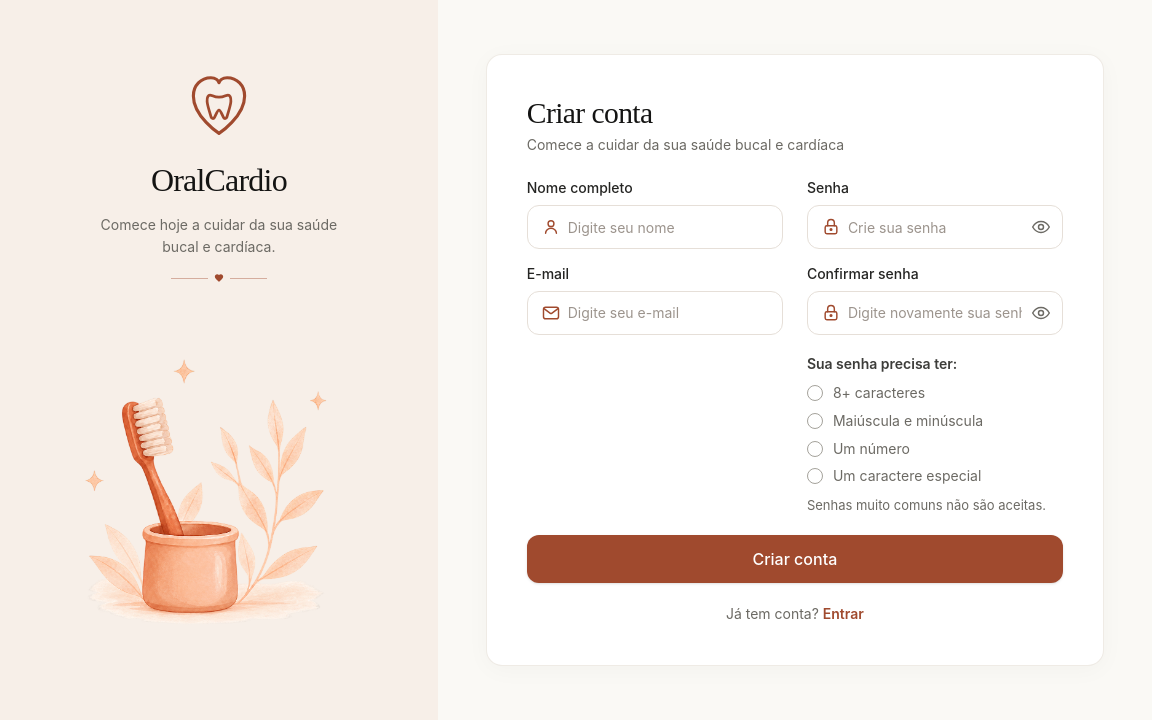
SignUpPage › shows validation feedback beside each invalid field
This screenshot has width=1152, height=720.
Step 1. Type "invalido" into the field labelled "E-mail" → (655, 313), box top-left (527, 291), bottom-right (783, 335)
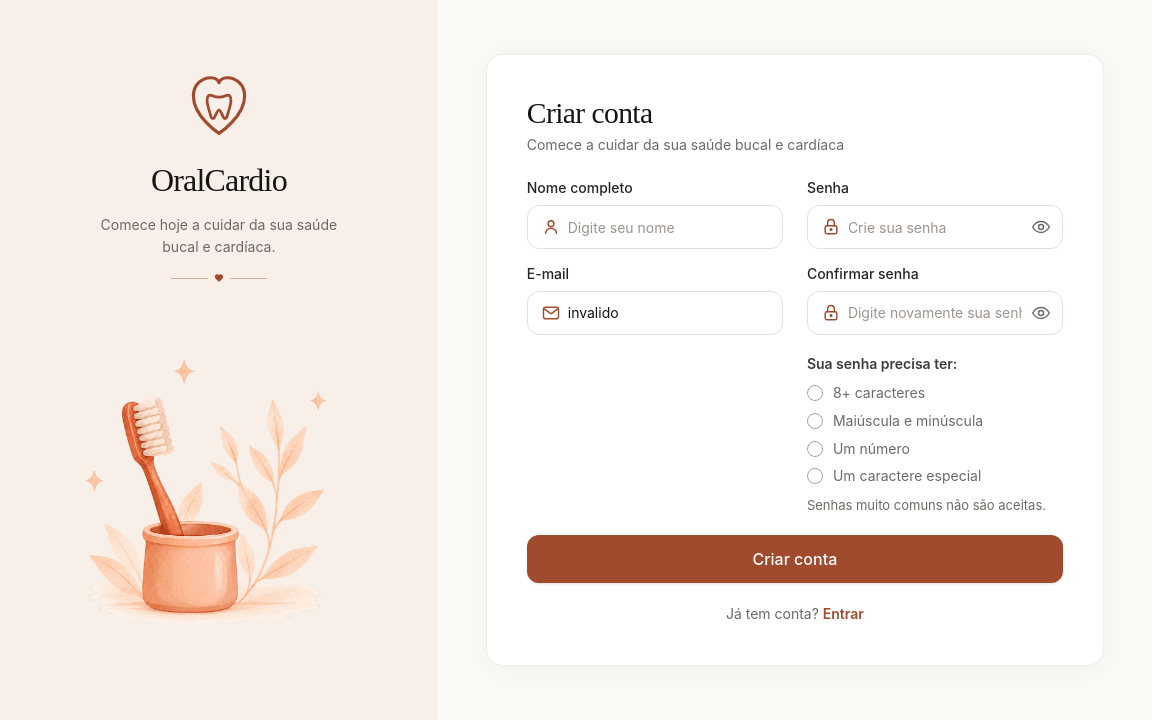
Step 2. Type "12345" into the password field labelled "Senha" → (935, 227), box top-left (807, 205), bottom-right (1063, 249)
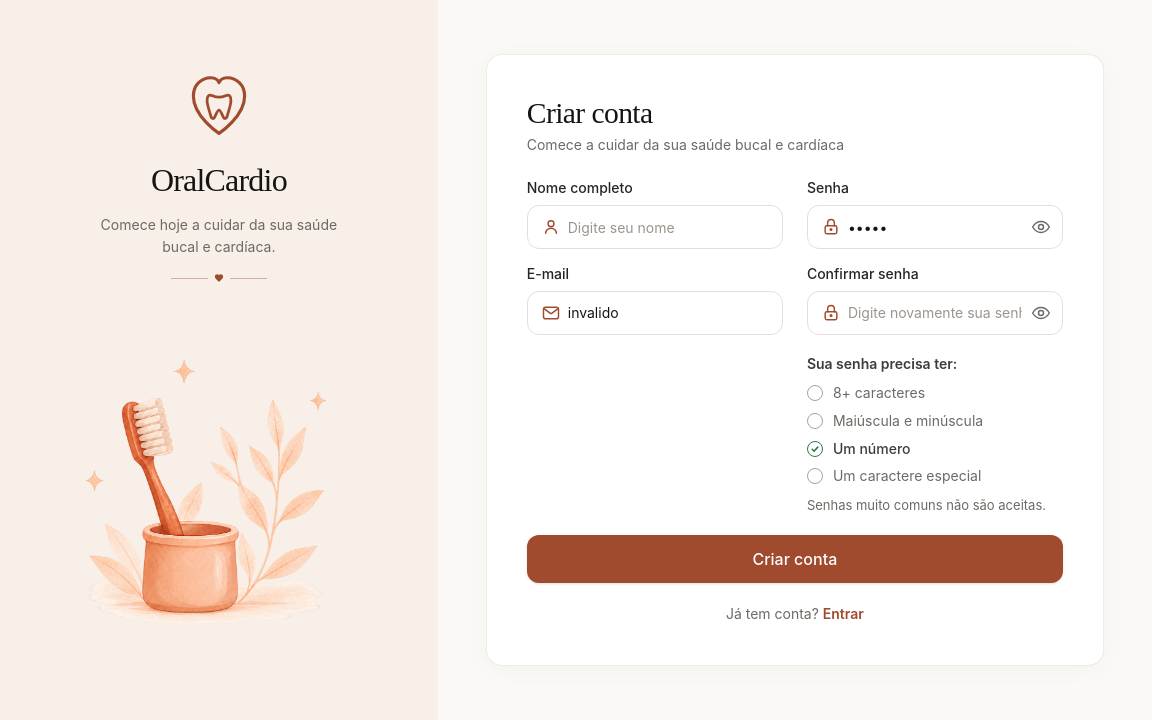
Step 3. Type "outra" into the password field labelled "Confirmar senha" → (935, 313), box top-left (807, 291), bottom-right (1063, 335)
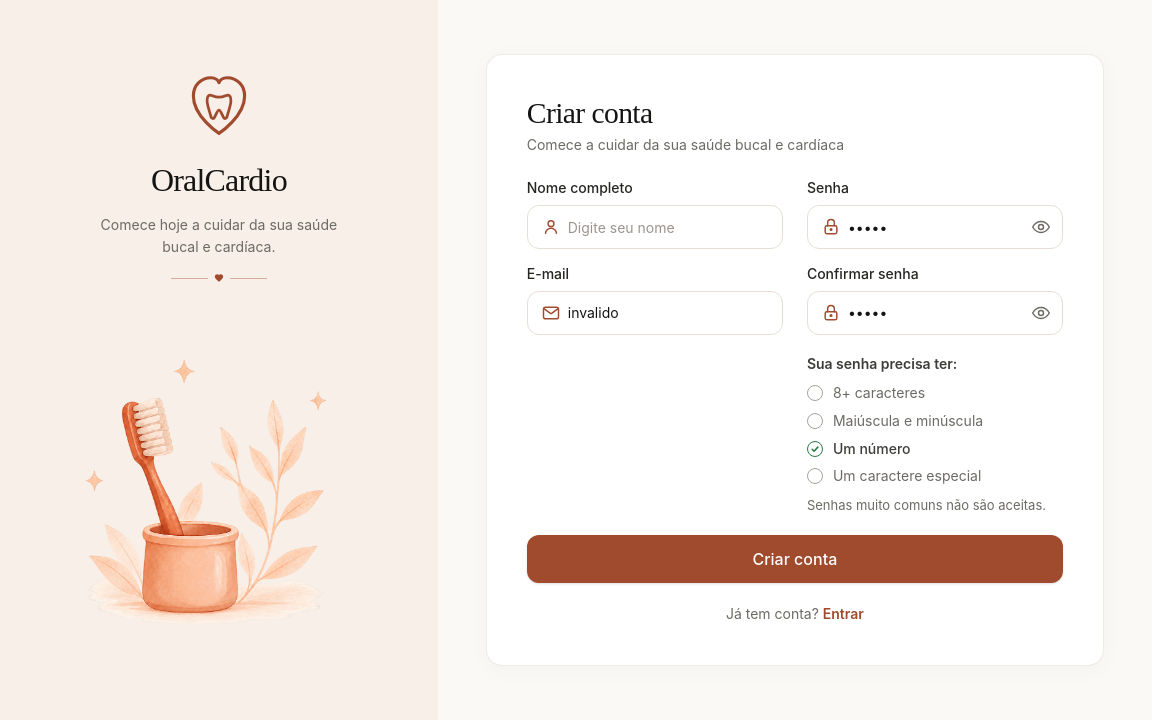
Step 4. Submit the form named "Criar conta", box top-left (527, 177), bottom-right (1063, 584)
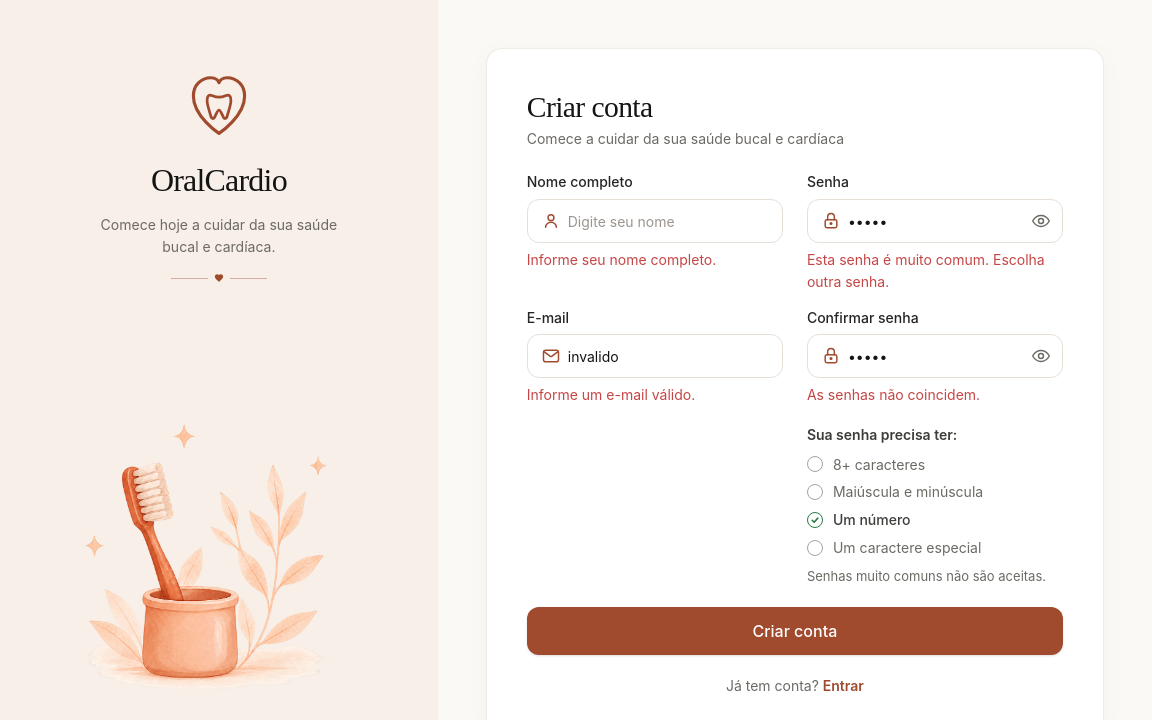
Result: the text "Informe seu nome completo." is shown at top-left (527, 251), bottom-right (716, 268)
Result: the text "Informe um e-mail válido." is shown at top-left (527, 386), bottom-right (695, 403)
Result: the text "Esta senha é muito comum. Escolha outra senha." is shown at top-left (807, 249), bottom-right (1063, 293)
